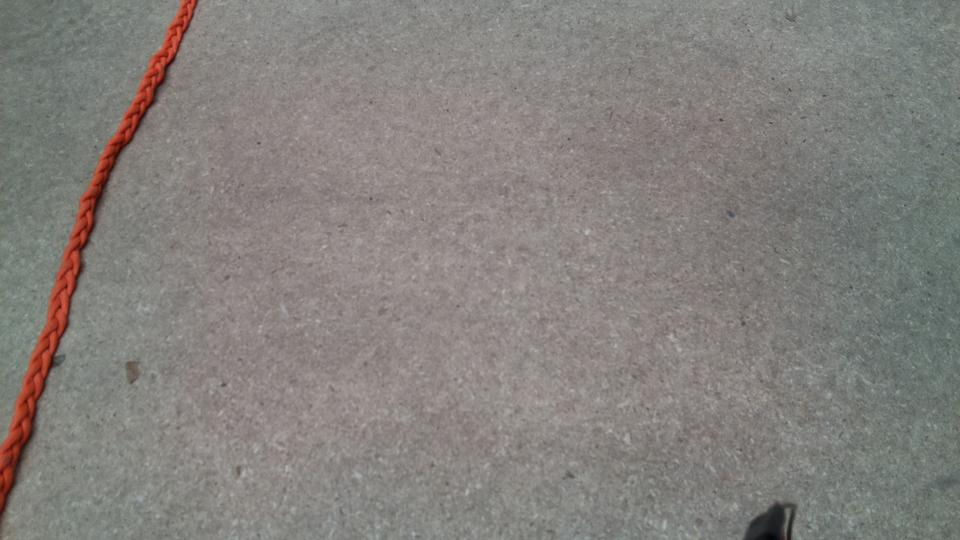rope: (1, 1, 203, 507)
